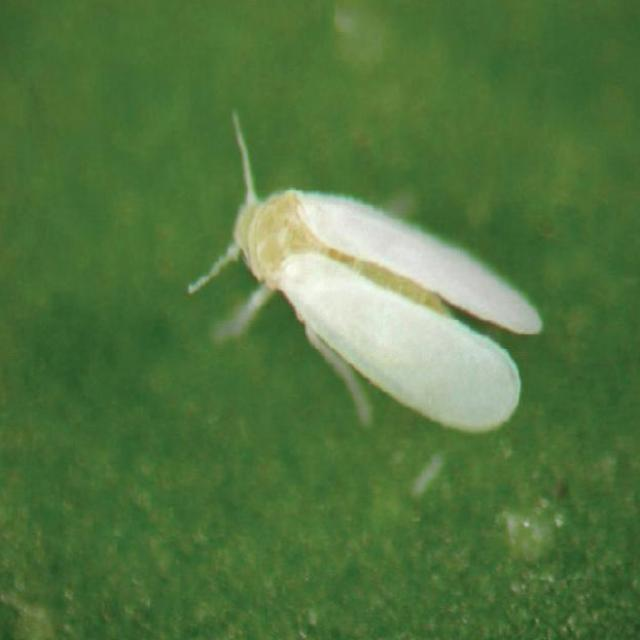Whitefly: (175, 93, 560, 449)
